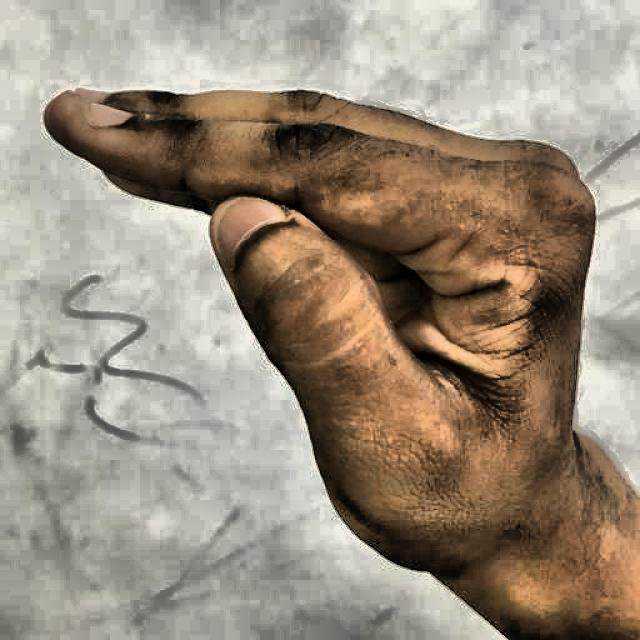Ga: (28, 39, 618, 599)
